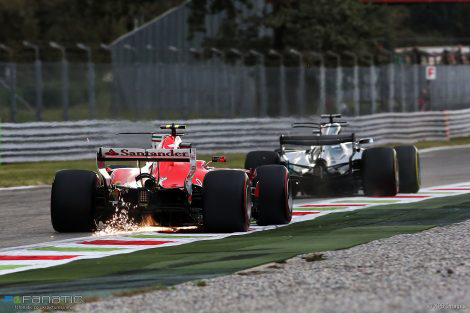F1 Car: (48, 121, 297, 236)
